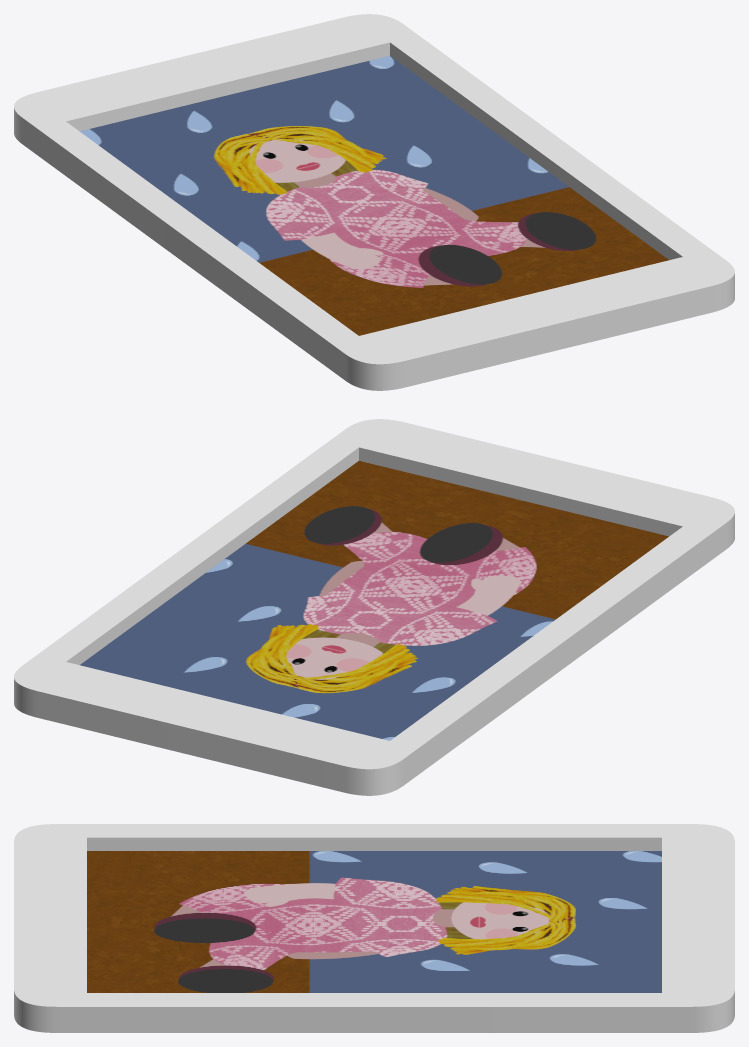
The model's file is Omek Tango 1.fbx.
The picture shows the model from 3 angles, top to bottom: view 1: azimuth 30°, elevation 25°; view 2: azimuth 150°, elevation 25°; view 3: azimuth 270°, elevation 25°; orthographic projection.
Parts seen in each view (by area): view 1: Card V1; view 2: Card V1; view 3: Card V1.
Boxes of the visible parts, left/top/right/bottom form: Card V1: left=14, top=14, right=734, bottom=390; Card V1: left=14, top=419, right=734, bottom=795; Card V1: left=14, top=824, right=734, bottom=1032.
Bounding box in the file's own units: 4.72 × 0.315 × 7.87.
